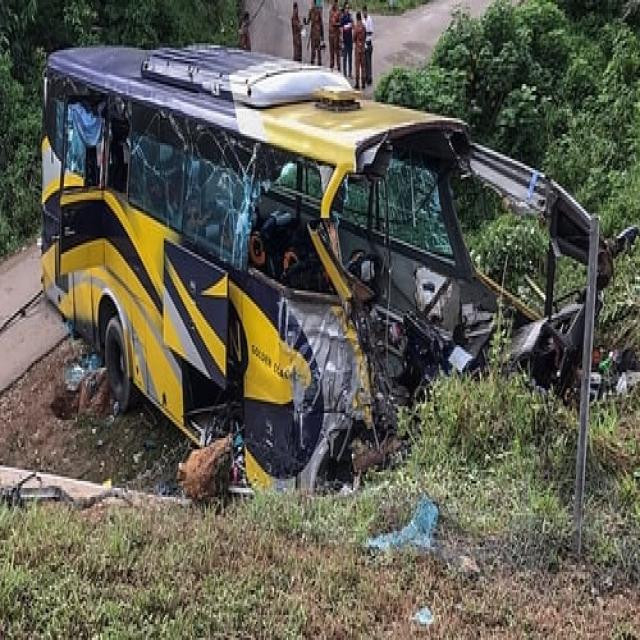Accident: (38, 34, 612, 499)
